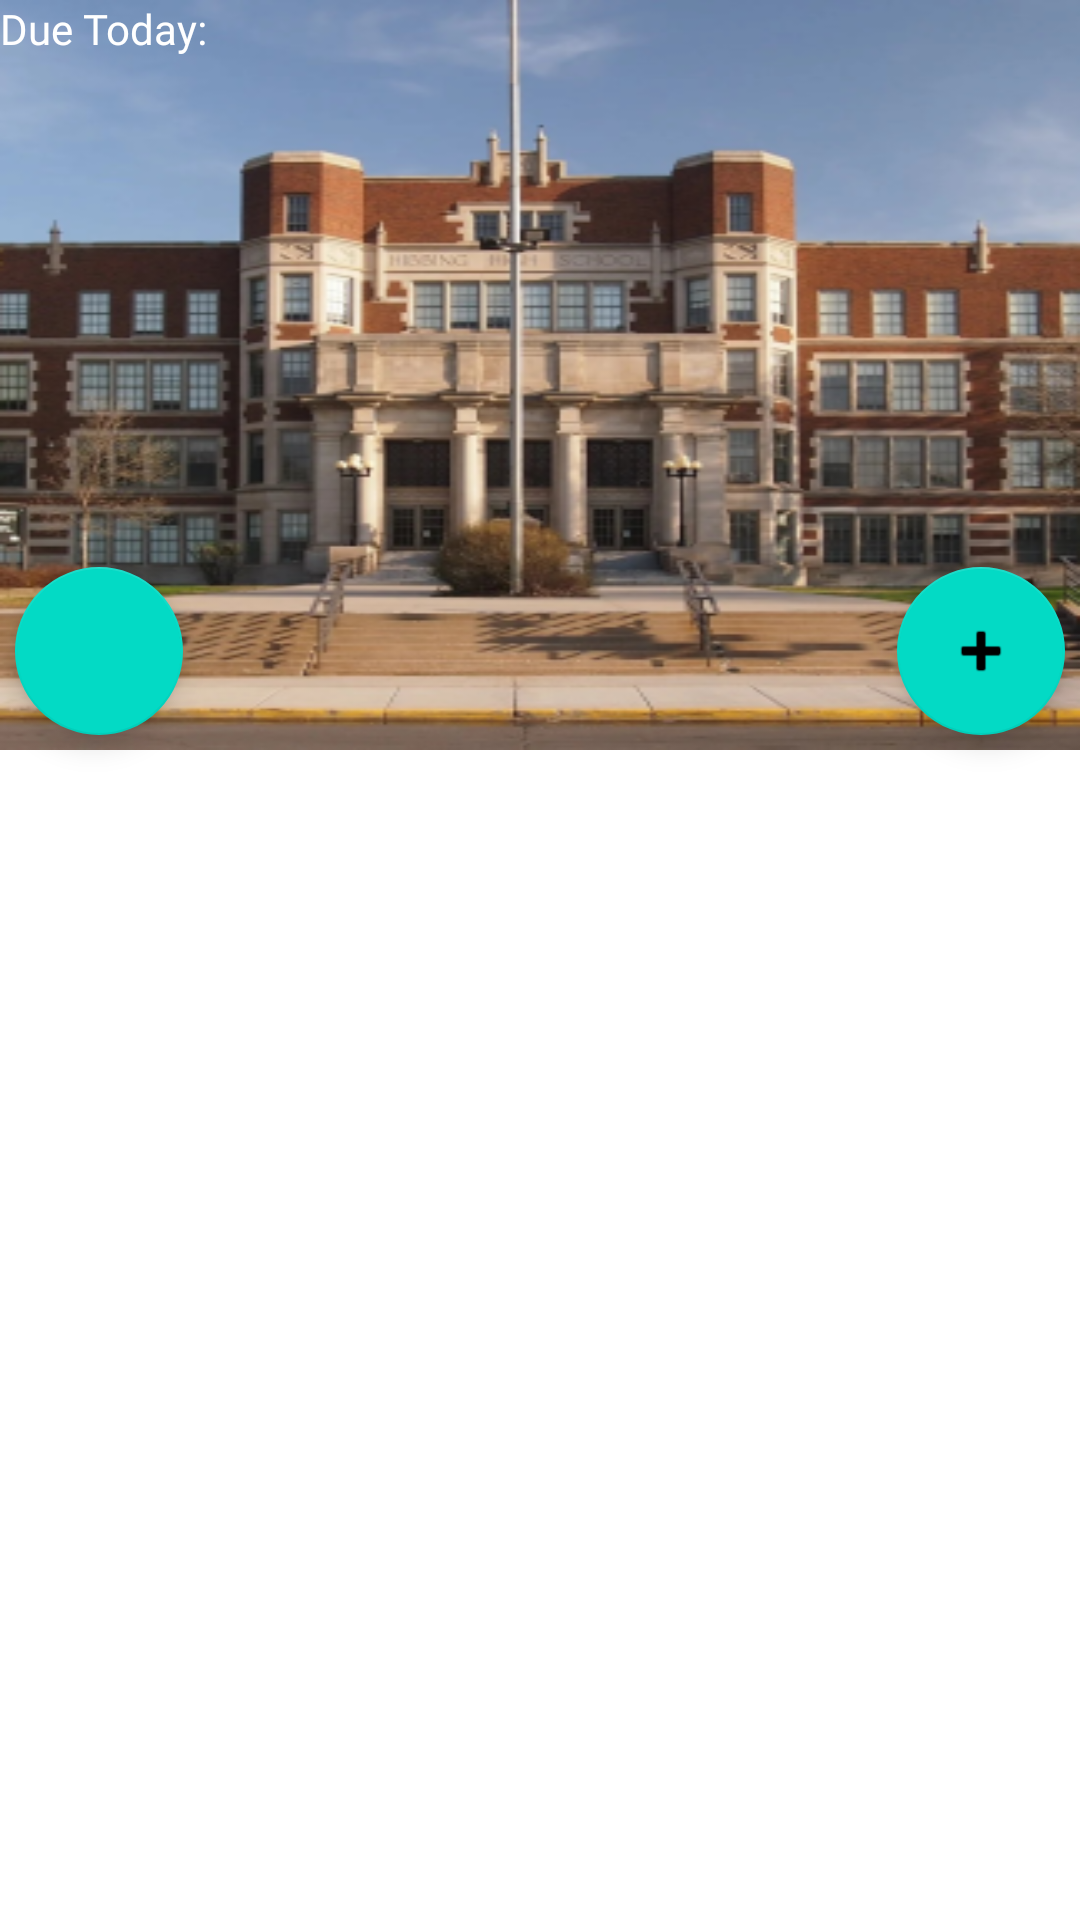

Where to tap for icons on this 1080 x 1920 app screen, as point (x, y):
add: point (981, 651)
